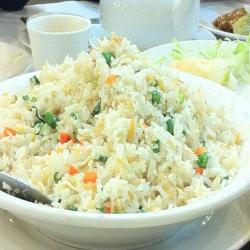rice: (1, 43, 246, 229)
